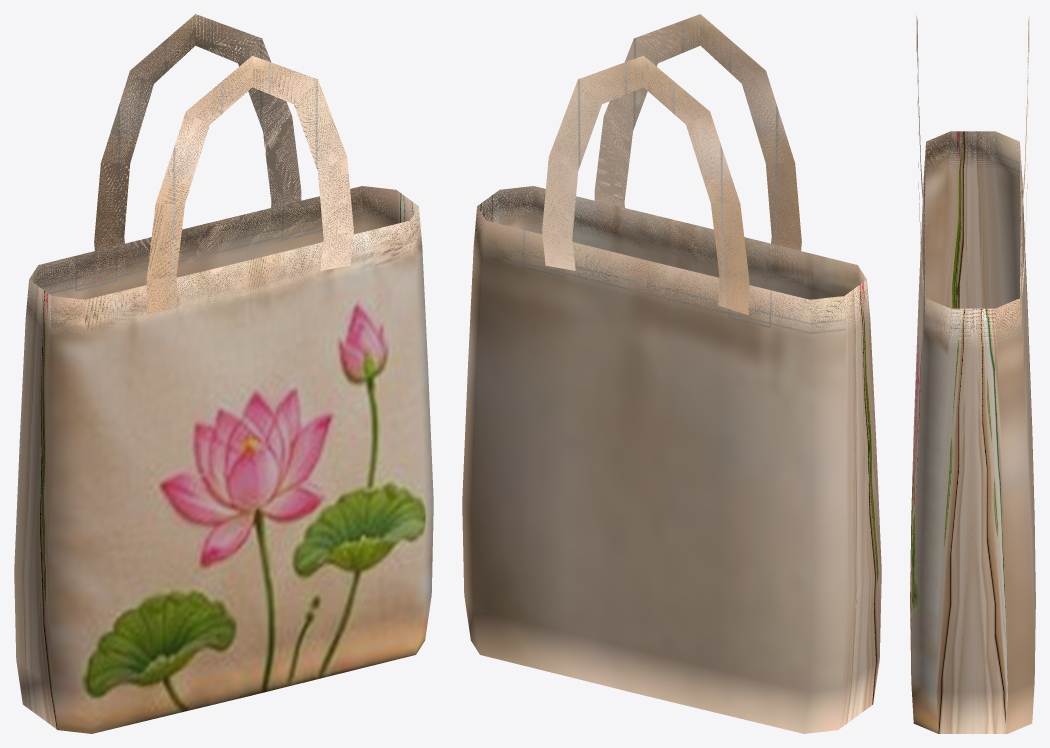
The model's file is tui_vai_theu_sen.glb.
The picture shows the model from 3 angles, left to right: view 1: azimuth 30°, elevation 25°; view 2: azimuth 150°, elevation 25°; view 3: azimuth 270°, elevation 25°; orthographic projection.
Parts seen in each view (by area): view 1: Tui_Vai_Theu_Sen; view 2: Tui_Vai_Theu_Sen; view 3: Tui_Vai_Theu_Sen.
Boxes of the visible parts, x1,y1,x2,y2 form: Tui_Vai_Theu_Sen: (14, 14, 433, 733); Tui_Vai_Theu_Sen: (462, 14, 881, 733); Tui_Vai_Theu_Sen: (910, 15, 1035, 733).
Bounding box in the file's own units: 0.356 × 0.564 × 0.102.
1 material, 1 textured.
